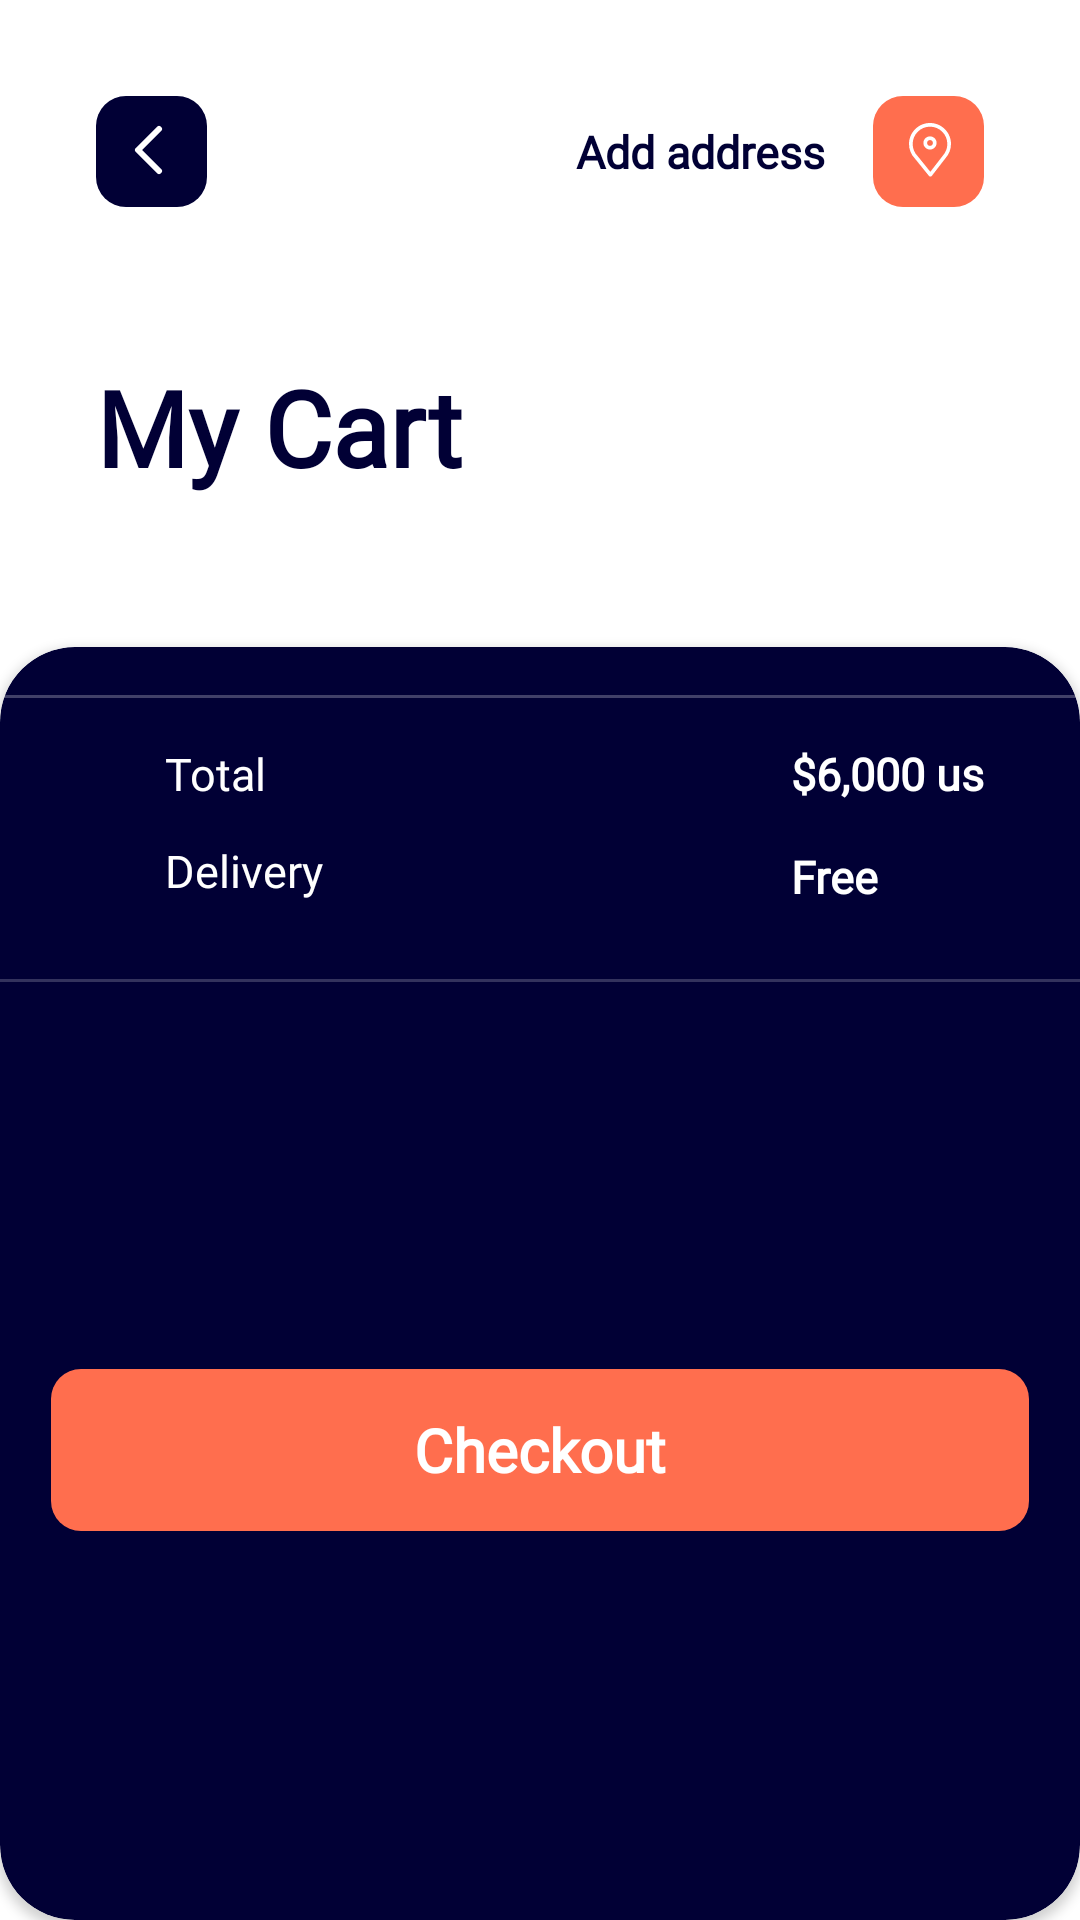

Icon bounding boxes for this 1080px x 1920px phone screenshot, format [x1, y1, x2, y2]:
back: [96, 96, 207, 207]
